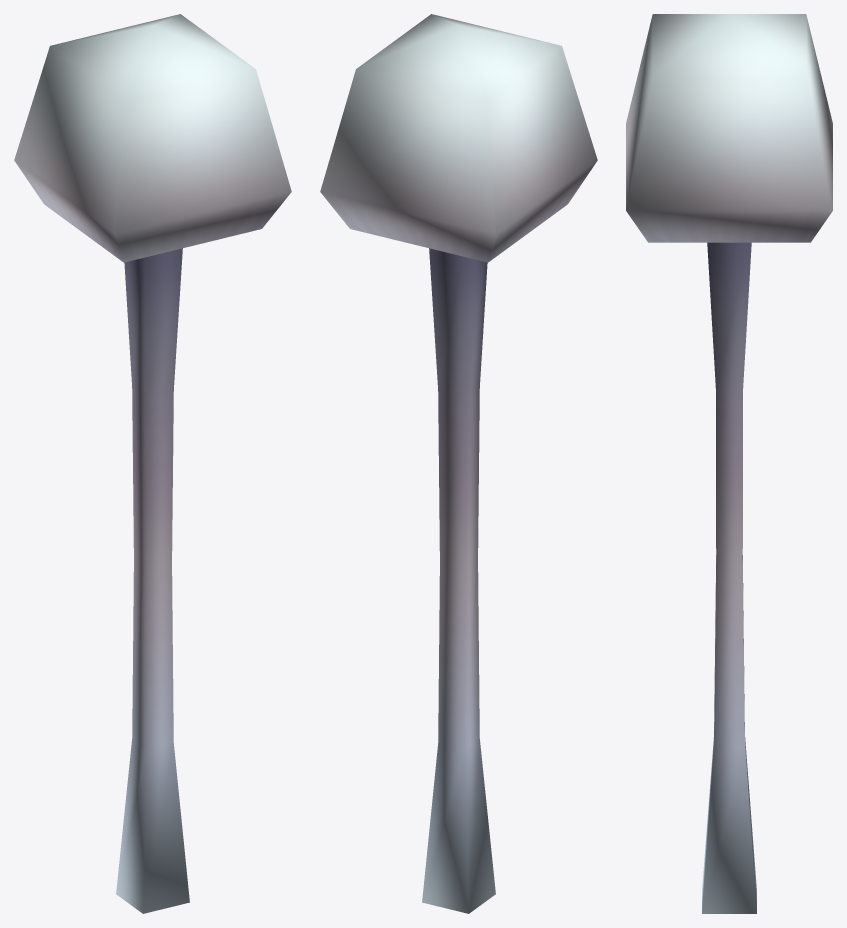
The model's file is Shroom 1.FBX.
The picture shows the model from 3 angles, left to right: view 1: azimuth 30°, elevation 25°; view 2: azimuth 150°, elevation 25°; view 3: azimuth 270°, elevation 25°; orthographic projection.
Parts seen in each view (by area): view 1: ShroomBase; view 2: ShroomBase; view 3: ShroomBase.
Boxes of the visible parts, left/top/right/bottom form: ShroomBase: left=14, top=14, right=291, bottom=913; ShroomBase: left=320, top=14, right=597, bottom=913; ShroomBase: left=626, top=14, right=832, bottom=913.
Size of the model in its own units: 1.35 by 6.4 by 1.35.
